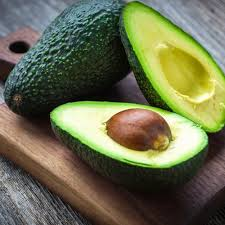avocado: (118, 1, 225, 134), (51, 100, 207, 189)
